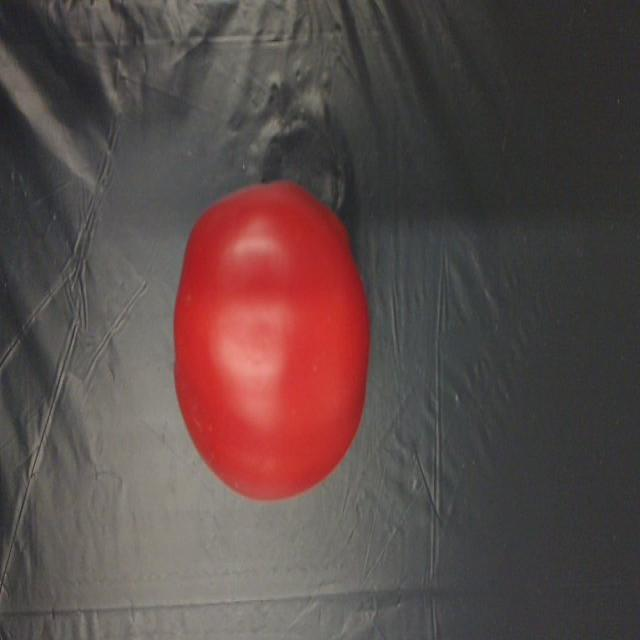kirmizi: (157, 156, 377, 516)
